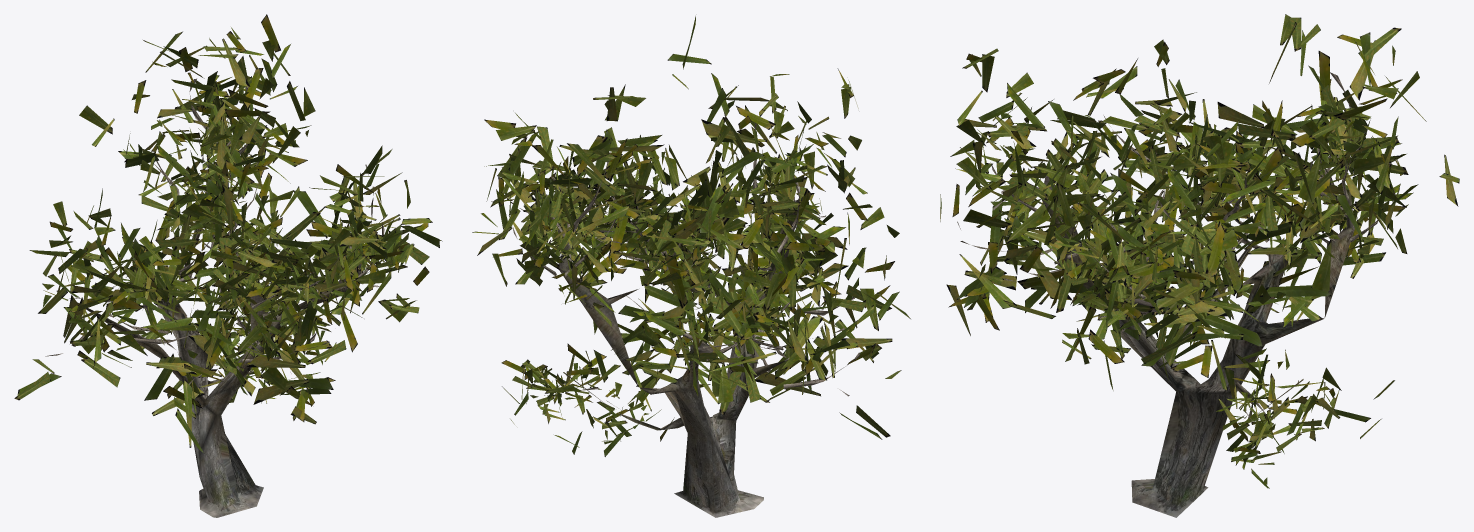
The model's file is island_tree_01_lod2.glb.
The picture shows the model from 3 angles, left to right: view 1: azimuth 30°, elevation 25°; view 2: azimuth 150°, elevation 25°; view 3: azimuth 270°, elevation 25°; orthographic projection. The views are drawn at different scales.
Visible parts, largest first — view 1: island_tree_01_LOD0; view 2: island_tree_01_LOD0; view 3: island_tree_01_LOD0.
Part boxes in pixels (left/top/right/bottom): island_tree_01_LOD0: left=14, top=14, right=442, bottom=517; island_tree_01_LOD0: left=472, top=16, right=910, bottom=517; island_tree_01_LOD0: left=940, top=14, right=1459, bottom=517.
Bounding box in the file's own units: 4.77 × 4.93 × 4.62.
3 materials, 3 textured.
